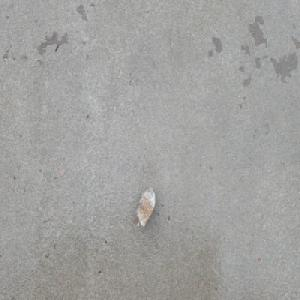Rock: (135, 184, 155, 229)
